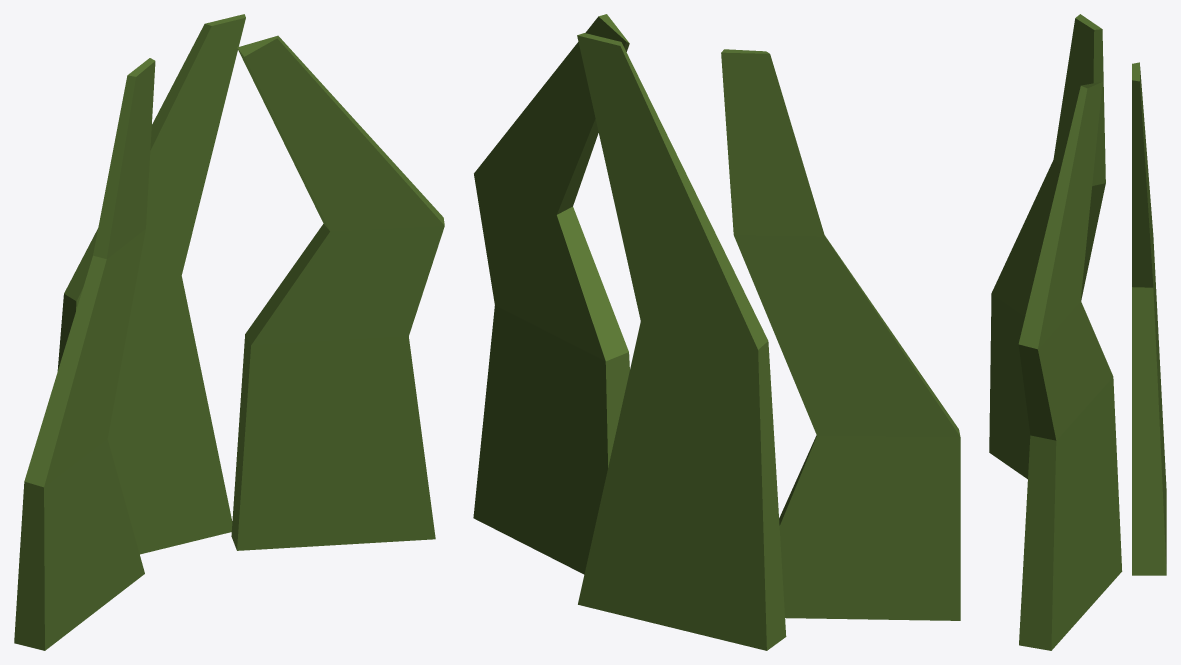
File: grass.fbx
The picture shows the model from 3 angles, left to right: view 1: azimuth 30°, elevation 25°; view 2: azimuth 150°, elevation 25°; view 3: azimuth 270°, elevation 25°; orthographic projection. The views are drawn at different scales.
Visible parts, largest first — view 1: Cube; view 2: Cube; view 3: Cube.
Boxes of the visible parts, box(x1,y1,x2,y2) form: Cube: box(14, 14, 444, 650); Cube: box(473, 14, 960, 650); Cube: box(989, 14, 1166, 650).
Bounding box in the file's own units: 173 × 194 × 61.92.
